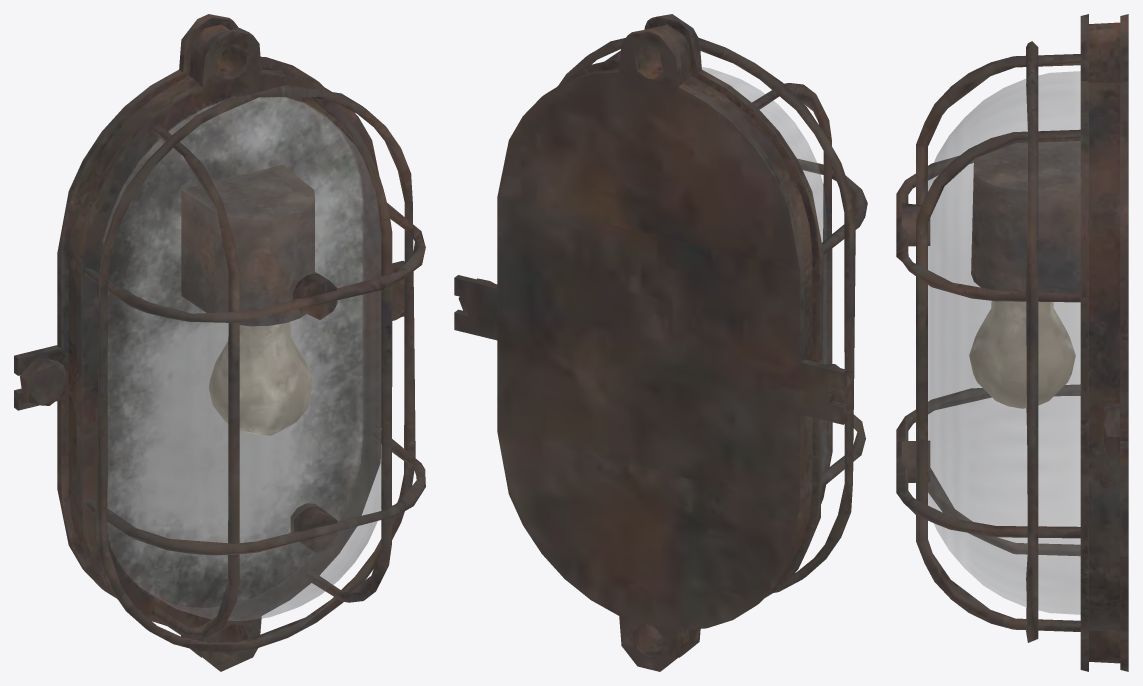
File: industrial_wall_lamp.glb
3 renders of one model, left to right at view 1: azimuth 30°, elevation 25°; view 2: azimuth 150°, elevation 25°; view 3: azimuth 270°, elevation 25°, orthographic.
Visible parts, largest first — view 1: industrial_wall_lamp; view 2: industrial_wall_lamp; view 3: industrial_wall_lamp.
Part boxes in pixels (x1,y1,x2,y2): industrial_wall_lamp: [14, 14, 425, 671]; industrial_wall_lamp: [454, 14, 867, 671]; industrial_wall_lamp: [896, 14, 1128, 671].
Bounding box in the file's own units: 0.2735 × 0.4283 × 0.139.
2 materials, 2 textured.
